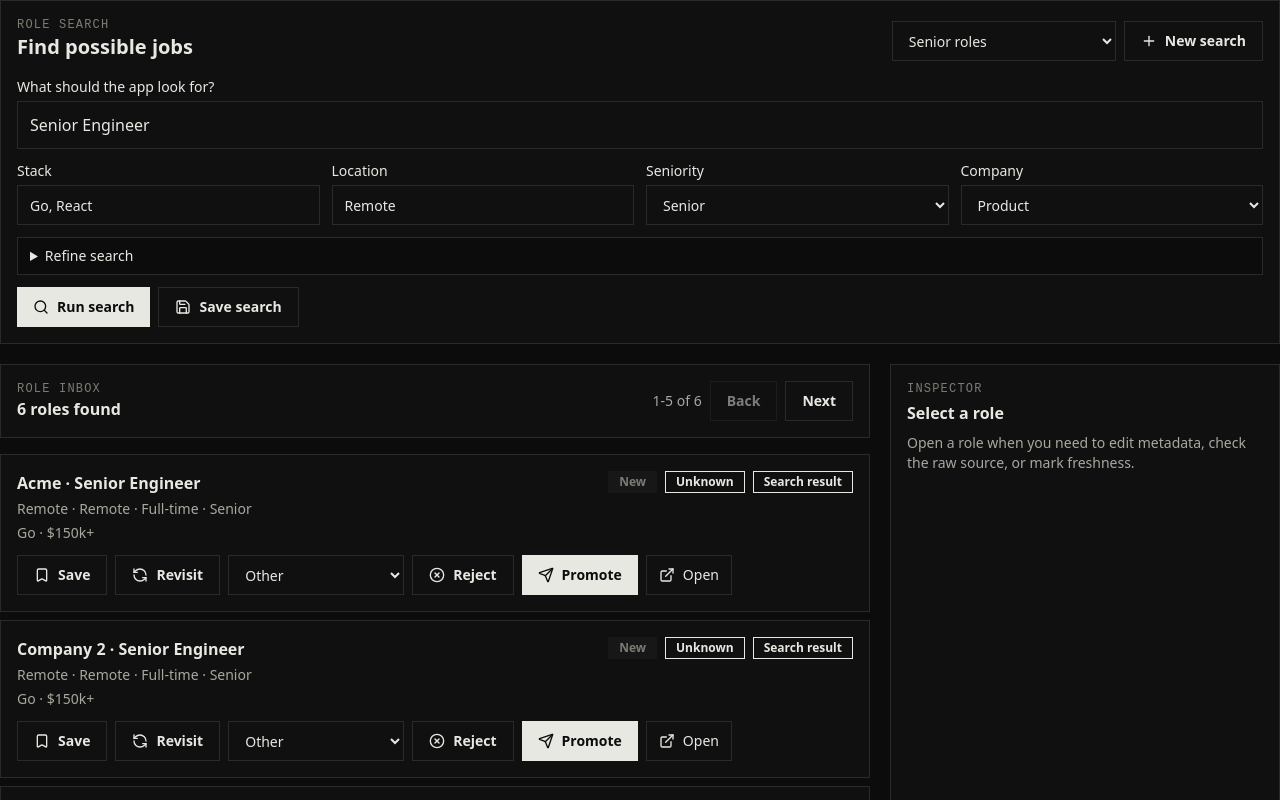
Test: RoleDiscoveryWorkspace › pages the role inbox with back and next controls
Expected: the text "1-5 of 6" is shown, [653,391,702,411]
Expected: the heading "Acme · Senior Engineer" is shown, [17,472,200,494]
Click the button "Next" at (819, 401), box [786,381,853,421]
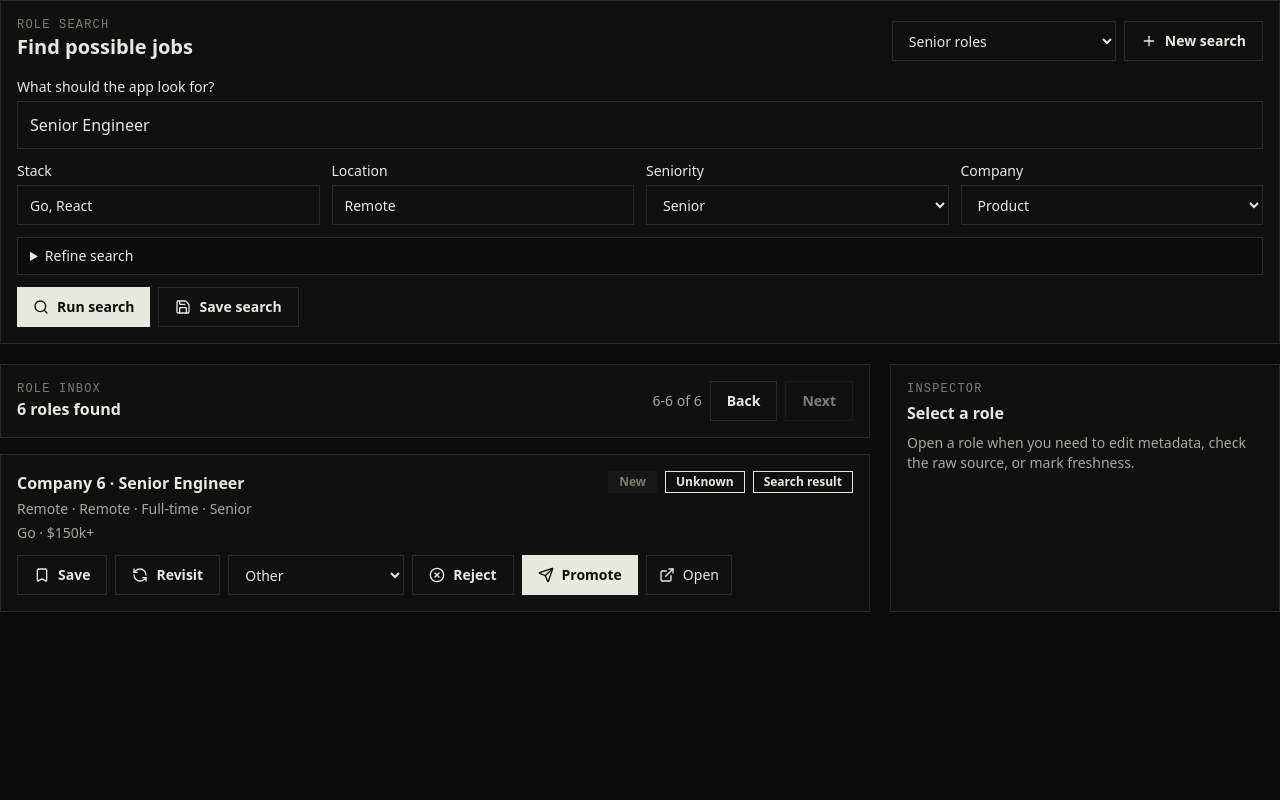
Expected: the text "6-6 of 6" is shown, [653,391,702,411]
Expected: the heading "Company 6 · Senior Engineer" is shown, [17,471,252,495]
Expected: the button "Acme · Senior Engineer" is gone
Click the button "Back" at (744, 401), box [710,381,778,421]
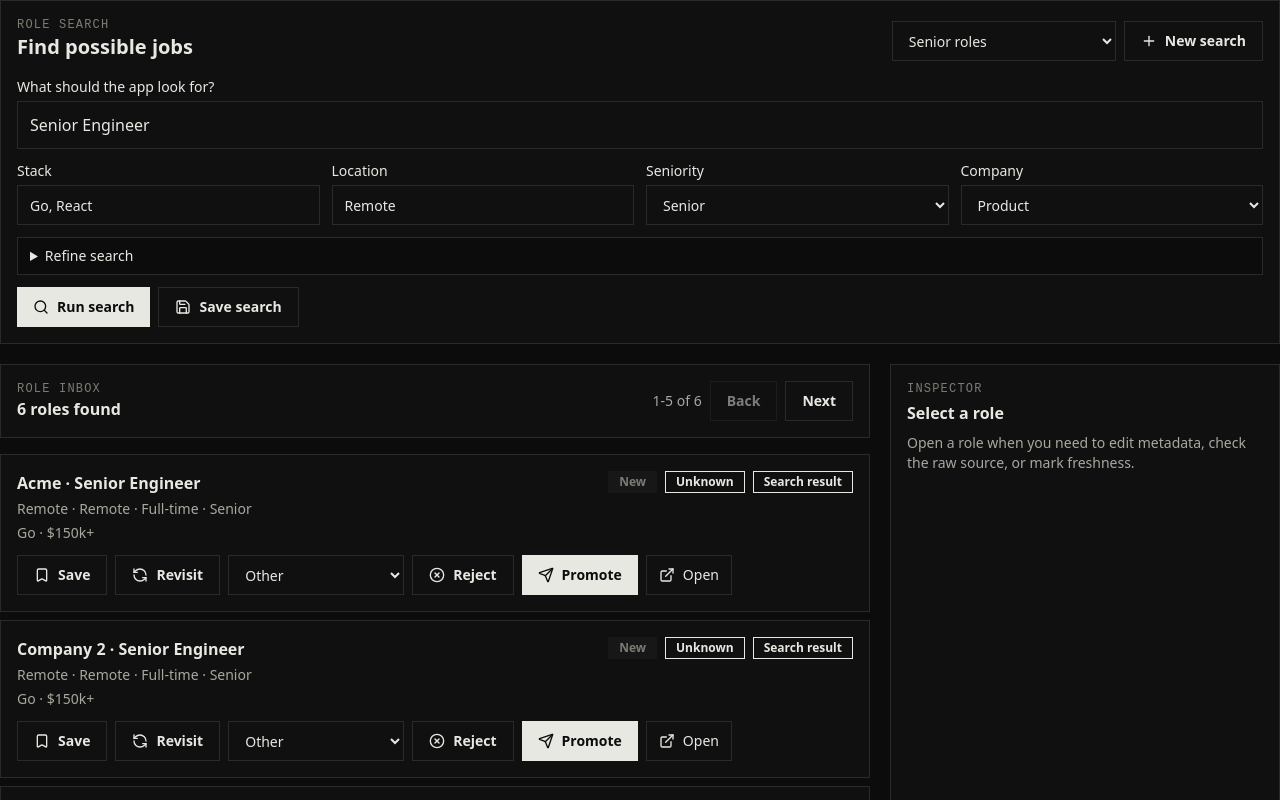
Expected: the text "1-5 of 6" is shown, [653,391,702,411]
Expected: the heading "Acme · Senior Engineer" is shown, [17,472,200,494]
